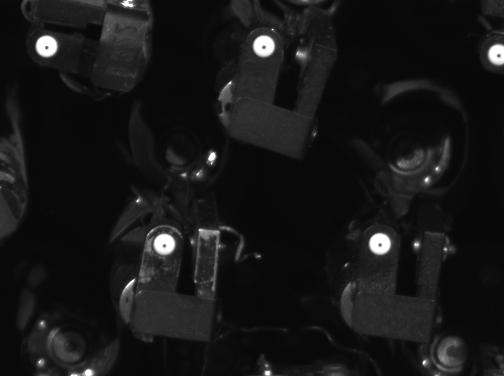fiber: (248, 32, 279, 61), (365, 230, 396, 258), (30, 33, 60, 60), (151, 231, 178, 260), (483, 39, 504, 69)
